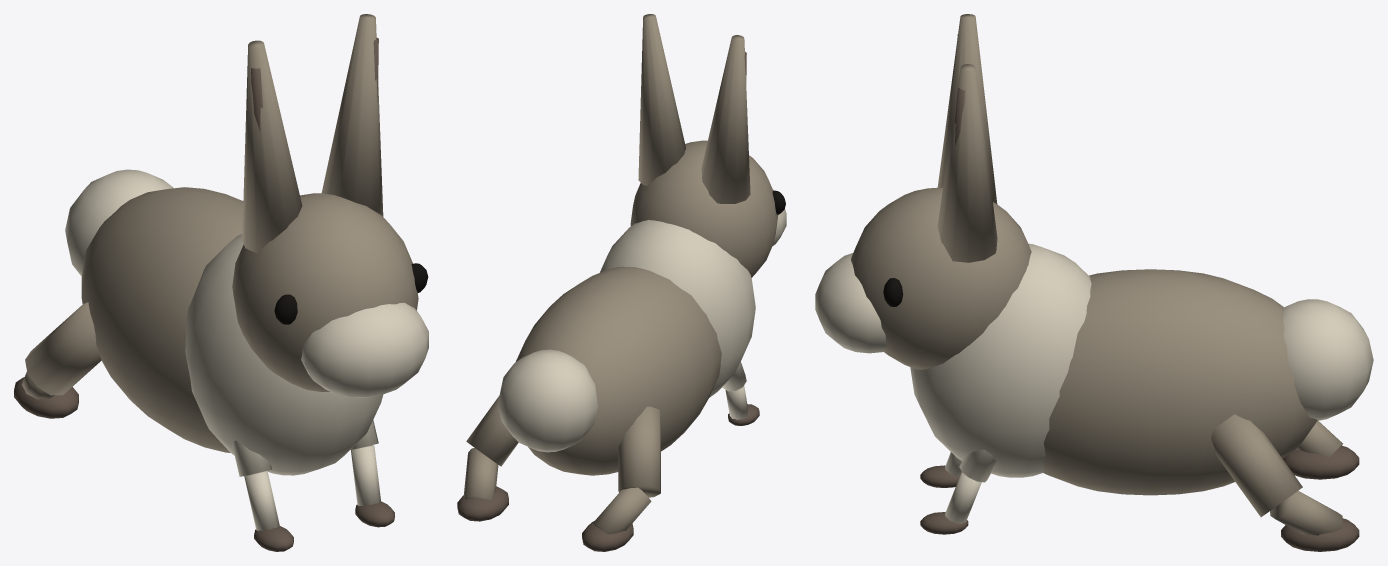
File: highland_hare_v1.glb
The picture shows the model from 3 angles, left to right: view 1: azimuth 30°, elevation 25°; view 2: azimuth 150°, elevation 25°; view 3: azimuth 270°, elevation 25°; orthographic projection. The views are drawn at different scales.
Parts seen in each view (by area): view 1: Body, Head, Chest, Muzzle, EarBlade, EarBlade.001, RearLegLUpper, Tail, FrontLegRLower, FrontLegLLower, RearLegLHoof, FrontLegLUpper (+4 smaller); view 2: Body, Chest, Head, Tail, EarBlade, EarBlade.001, RearLegLUpper, RearLegRUpper, RearLegLLower, RearLegRLower, RearLegRHoof, RearLegLHoof (+1 smaller); view 3: Body, Chest, Head, Tail, EarBlade.001, RearLegRUpper, Muzzle, EarBlade, RearLegRLower, RearLegLHoof, RearLegRHoof, FrontLegRLower (+3 smaller).
Part boxes in pixels (x1=…): Body: x1=81, y1=187, x2=243, y2=452; Head: x1=232, y1=193, x2=418, y2=391; Chest: x1=185, y1=234, x2=383, y2=475; Muzzle: x1=301, y1=302, x2=428, y2=397; EarBlade: x1=242, y1=40, x2=302, y2=253; EarBlade.001: x1=321, y1=14, x2=383, y2=216; RearLegLUpper: x1=25, y1=302, x2=101, y2=395; Tail: x1=65, y1=169, x2=173, y2=276; FrontLegRLower: x1=351, y1=445, x2=381, y2=505; FrontLegLLower: x1=244, y1=471, x2=279, y2=530; RearLegLHoof: x1=14, y1=377, x2=78, y2=418; FrontLegLUpper: x1=232, y1=440, x2=271, y2=476; Body: x1=516, y1=266, x2=721, y2=475; Chest: x1=600, y1=220, x2=755, y2=397; Head: x1=630, y1=140, x2=778, y2=277; Tail: x1=498, y1=349, x2=598, y2=452; EarBlade: x1=701, y1=35, x2=750, y2=203; EarBlade.001: x1=638, y1=14, x2=685, y2=185; RearLegLUpper: x1=618, y1=406, x2=660, y2=497; RearLegRUpper: x1=466, y1=395, x2=518, y2=466; RearLegLLower: x1=592, y1=487, x2=651, y2=534; RearLegRLower: x1=463, y1=448, x2=498, y2=500; RearLegRHoof: x1=457, y1=486, x2=508, y2=521; RearLegLHoof: x1=582, y1=521, x2=633, y2=551; Body: x1=1042, y1=269, x2=1317, y2=495; Chest: x1=910, y1=243, x2=1091, y2=477; Head: x1=851, y1=187, x2=1031, y2=369; Tail: x1=1283, y1=299, x2=1373, y2=420; EarBlade.001: x1=937, y1=64, x2=997, y2=262; RearLegRUpper: x1=1211, y1=414, x2=1302, y2=516; Muzzle: x1=815, y1=253, x2=886, y2=353; EarBlade: x1=937, y1=14, x2=997, y2=203; RearLegRLower: x1=1270, y1=490, x2=1343, y2=535; RearLegLHoof: x1=1282, y1=445, x2=1359, y2=479; RearLegRHoof: x1=1281, y1=518, x2=1359, y2=551; FrontLegRLower: x1=945, y1=472, x2=981, y2=523.
Bounding box in the file's own units: 0.86 × 1.7 × 1.83.
